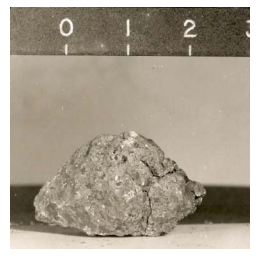Breccia: (34, 116, 216, 245)
